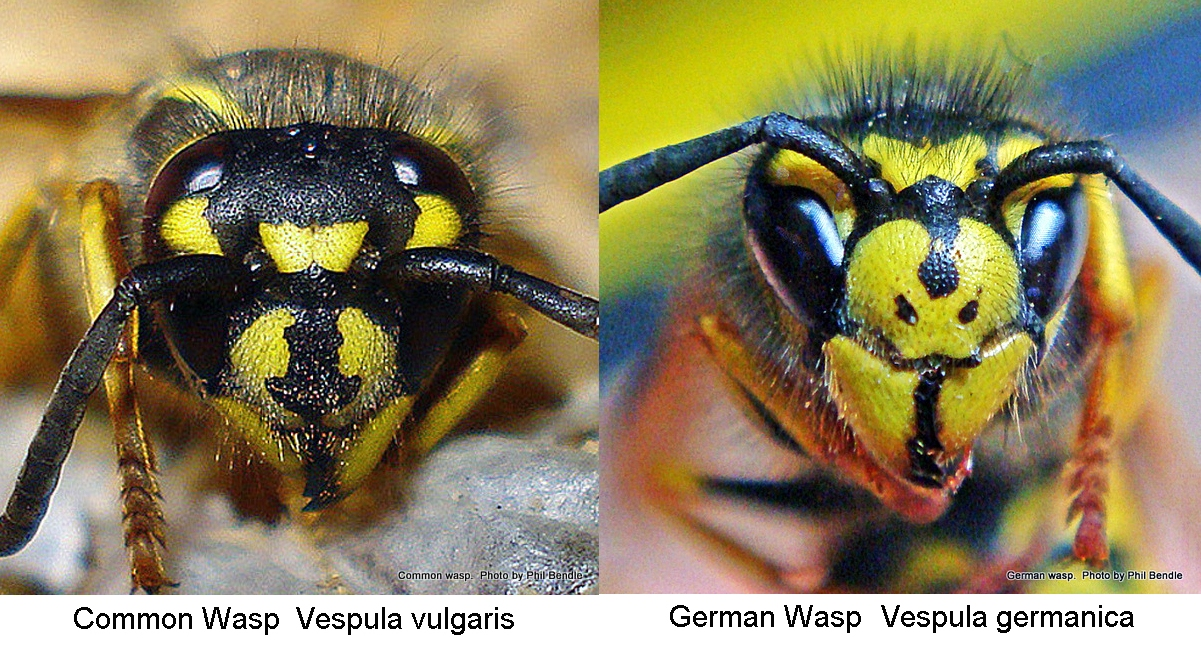chax: (607, 51, 1191, 555), (14, 46, 587, 550)
